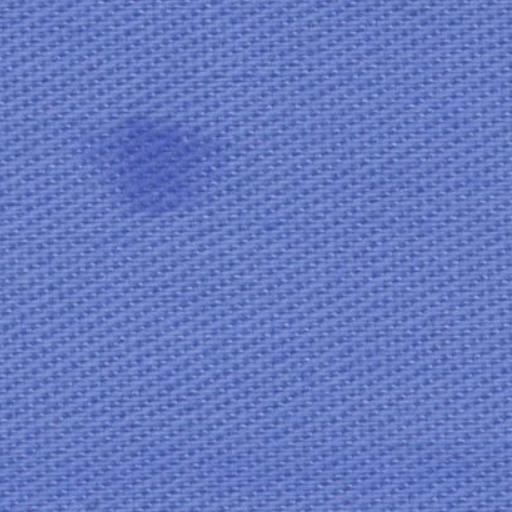WuZi: (68, 88, 254, 252)
